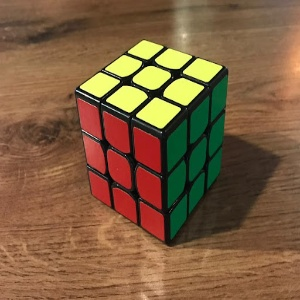cube: (74, 39, 230, 244)
